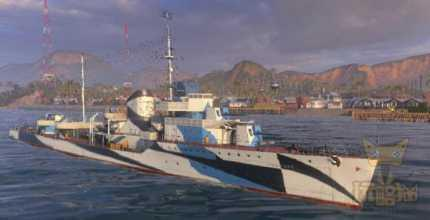warship: (16, 85, 380, 207)
